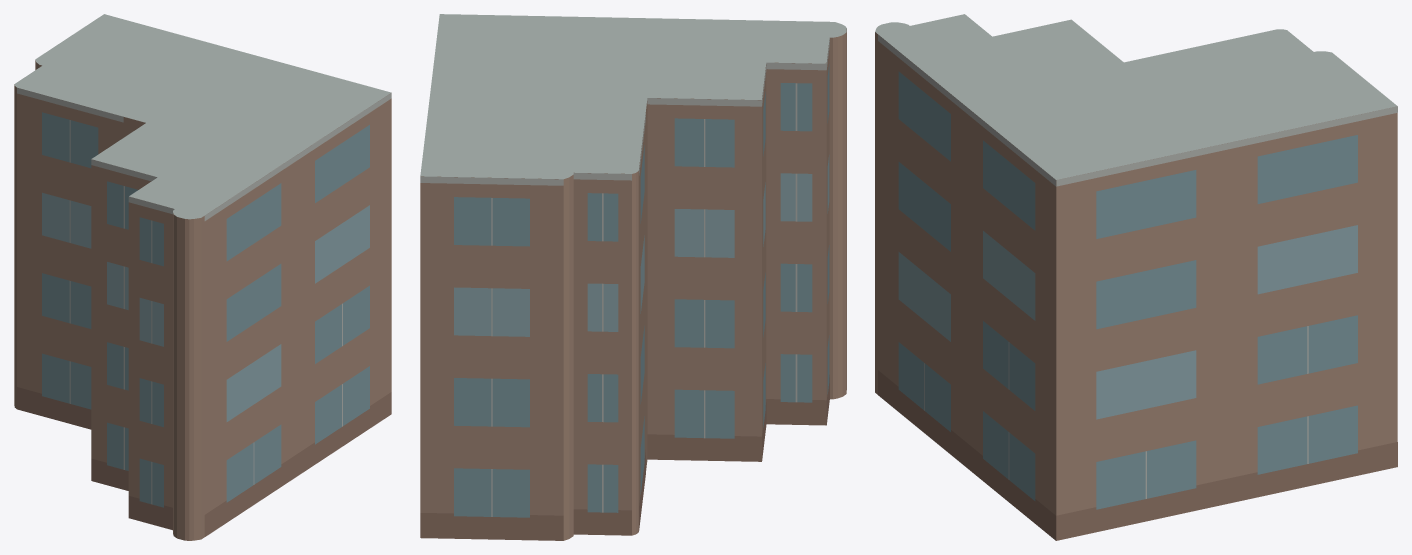
The model's file is survey-upis-32745871.glb.
3 renders of one model, left to right at view 1: azimuth 30°, elevation 25°; view 2: azimuth 150°, elevation 25°; view 3: azimuth 270°, elevation 25°, orthographic. The views are drawn at different scales.
Visible parts, largest first — view 1: survey-upis-32745871.tmp; view 2: survey-upis-32745871.tmp; view 3: survey-upis-32745871.tmp.
Boxes of the visible parts, bbox=[...] form: survey-upis-32745871.tmp: bbox=[14, 14, 391, 540]; survey-upis-32745871.tmp: bbox=[420, 14, 846, 540]; survey-upis-32745871.tmp: bbox=[875, 14, 1397, 540].
Bounding box in the file's own units: 13.24 × 13.4 × 17.6.
